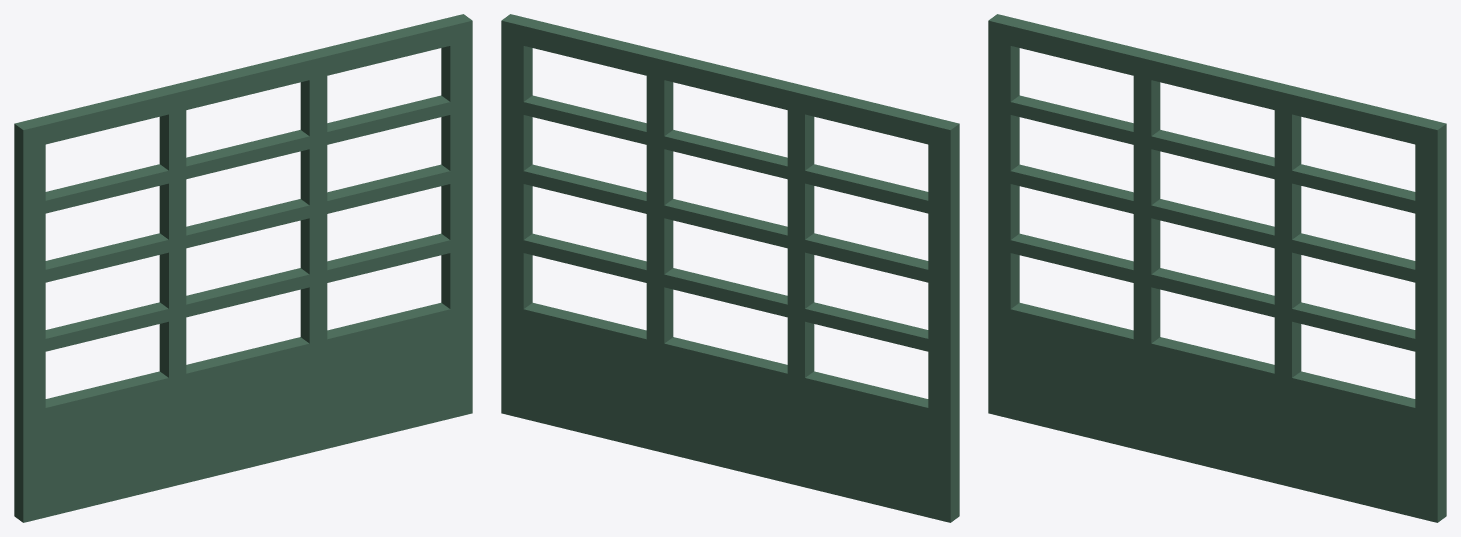
Rendered from SM_Bld_AutoRepair_01_Door_02.obj.
The picture shows the model from 3 angles, left to right: view 1: azimuth 30°, elevation 25°; view 2: azimuth 150°, elevation 25°; view 3: azimuth 330°, elevation 25°; orthographic projection.
Parts seen in each view (by area): view 1: SM_Bld_AutoRepair_01_Door_02_0; view 2: SM_Bld_AutoRepair_01_Door_02_0; view 3: SM_Bld_AutoRepair_01_Door_02_0.
Part boxes in pixels (x1,y1,x2,y2): SM_Bld_AutoRepair_01_Door_02_0: [14, 14, 472, 522]; SM_Bld_AutoRepair_01_Door_02_0: [501, 14, 959, 522]; SM_Bld_AutoRepair_01_Door_02_0: [988, 14, 1446, 522].
Bounding box in the file's own units: 4.5 × 3.76 × 0.1568.
Materials: 1 (1 with a texture image).
